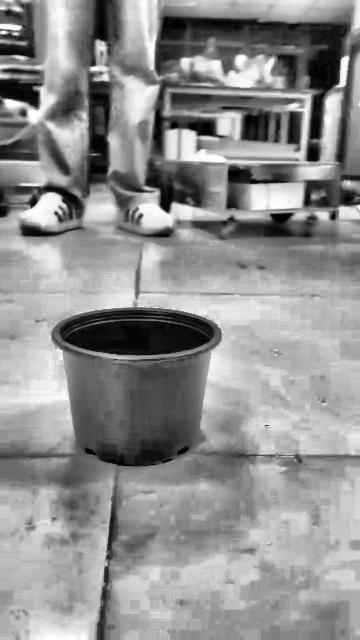pot: (52, 308, 220, 466)
